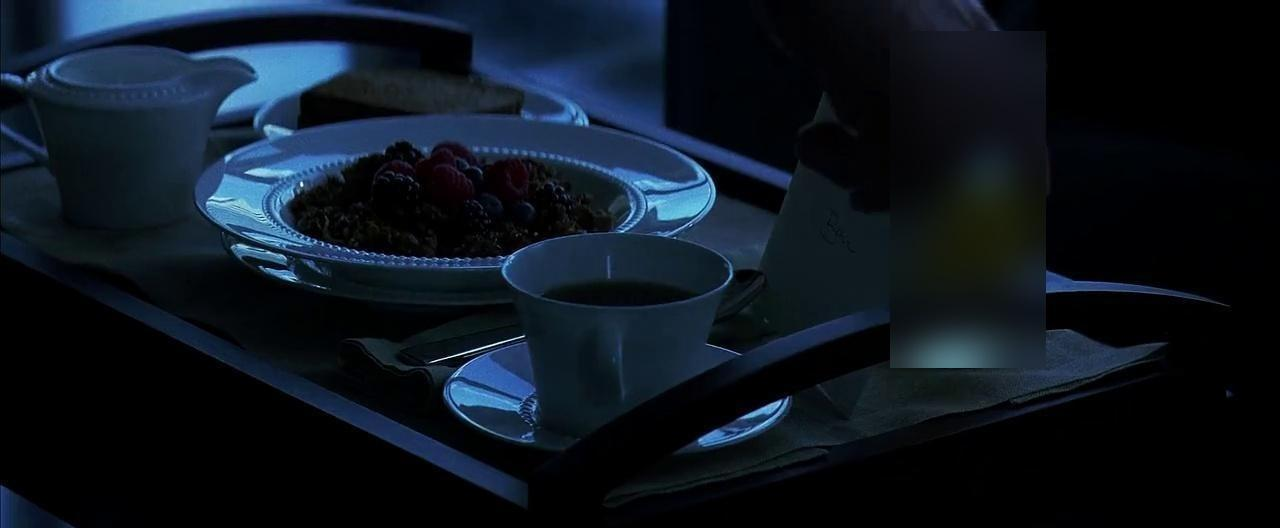cup-handle: (501, 232, 735, 431)
